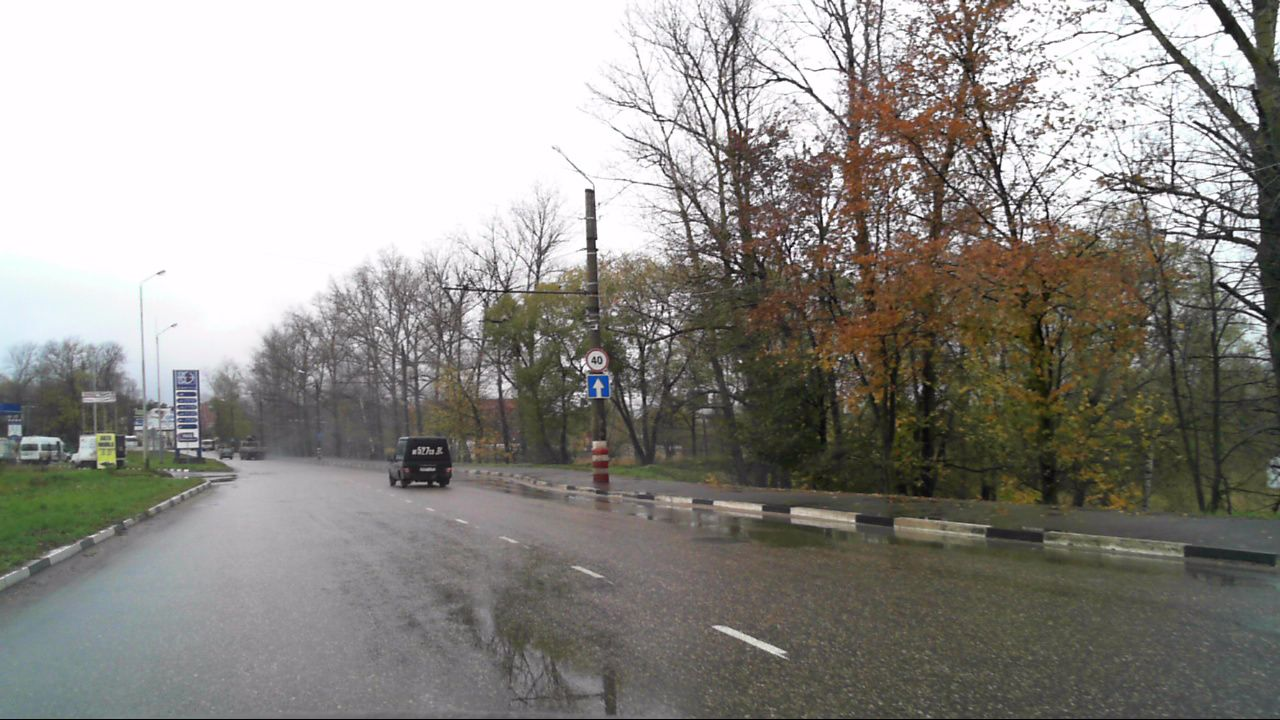speed_warning_40: (585, 348, 610, 372)
